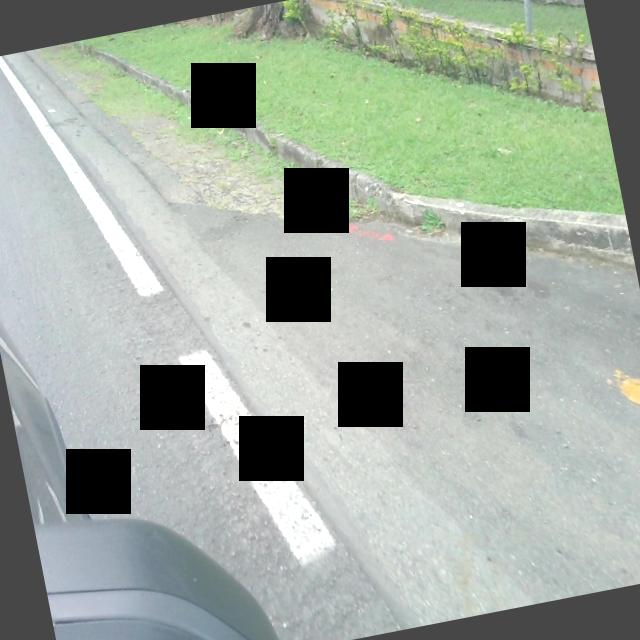DITCH: (0, 0, 640, 640), (28, 51, 640, 640)
